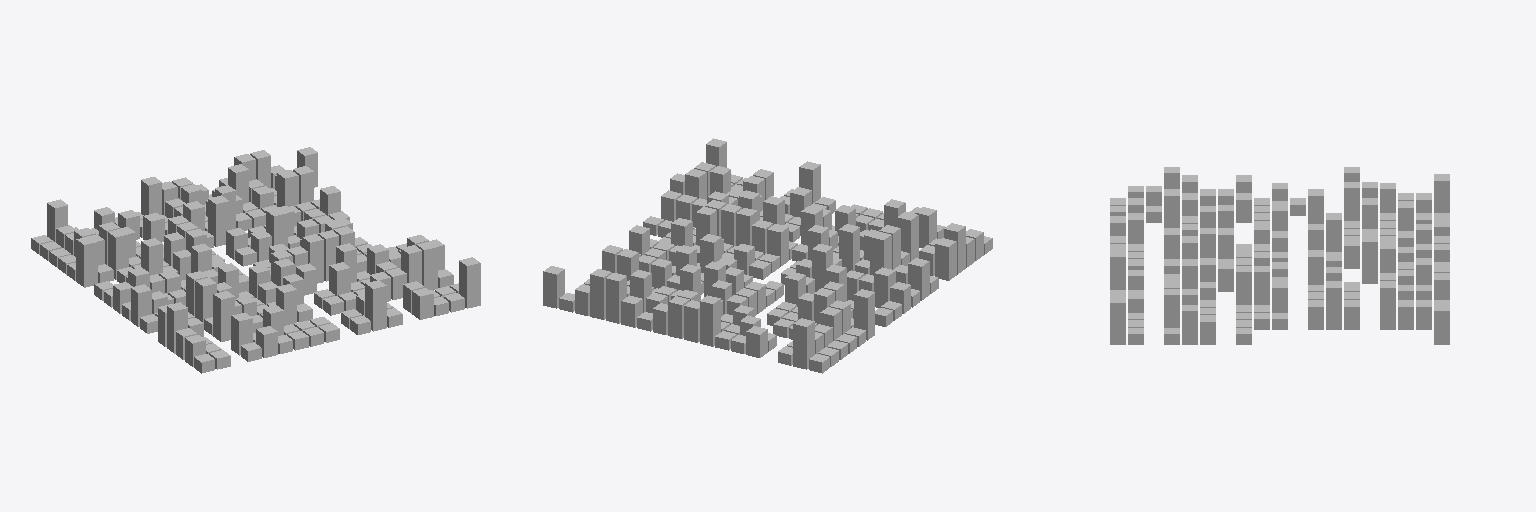
Rendered from city_part_1.obj.
The picture shows the model from 3 angles: view 1: azimuth 30°, elevation 25°; view 2: azimuth 150°, elevation 25°; view 3: azimuth 270°, elevation 25°; orthographic projection.
Parts seen in each view (by area): view 1: Plane.001; view 2: Plane.001; view 3: Plane.001.
Boxes of the visible parts, box(x1,y1,x2,y2) form: Plane.001: box(31, 147, 480, 373); Plane.001: box(543, 138, 992, 373); Plane.001: box(1110, 167, 1449, 344).
Size of the model in its own units: 110 by 16.04 by 116.